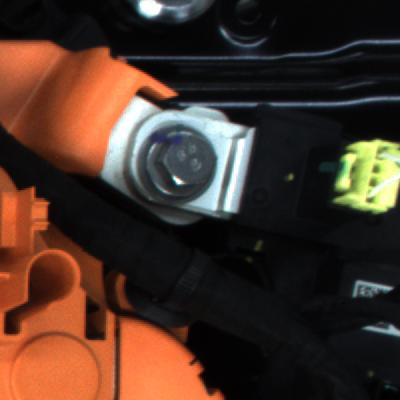nut_b: (128, 117, 222, 207)
